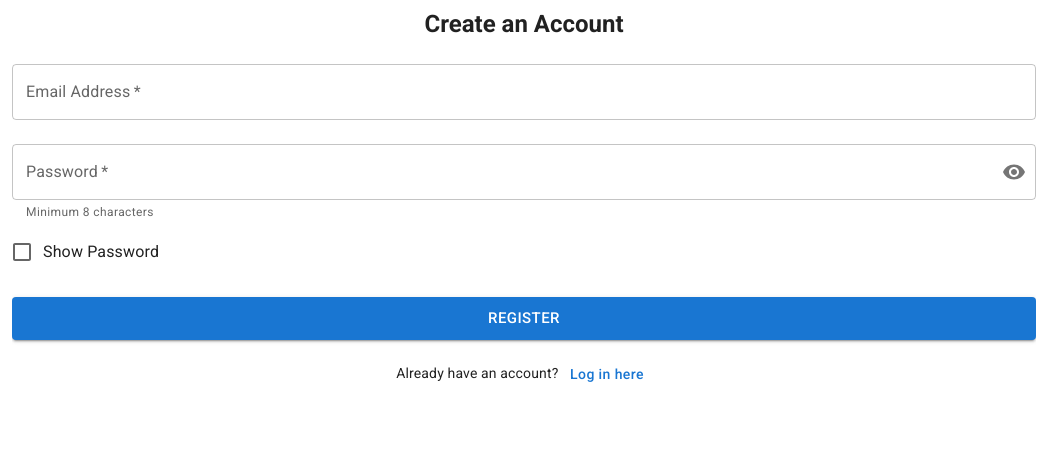
Test: authentication forms › resets registration fields after a successful registration
This screenshot has width=1048, height=463.
In the field labelled "Email Address *": (524, 92) top-left (12, 64), bottom-right (1036, 120), type "new@example.com"
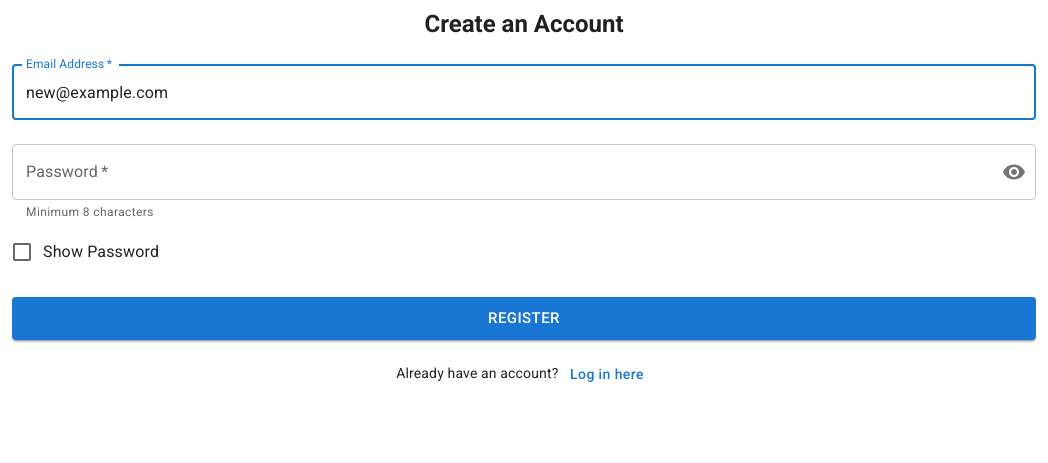
In the password field with id "register-password": (499, 172) top-left (12, 144), bottom-right (986, 200), type "password123"
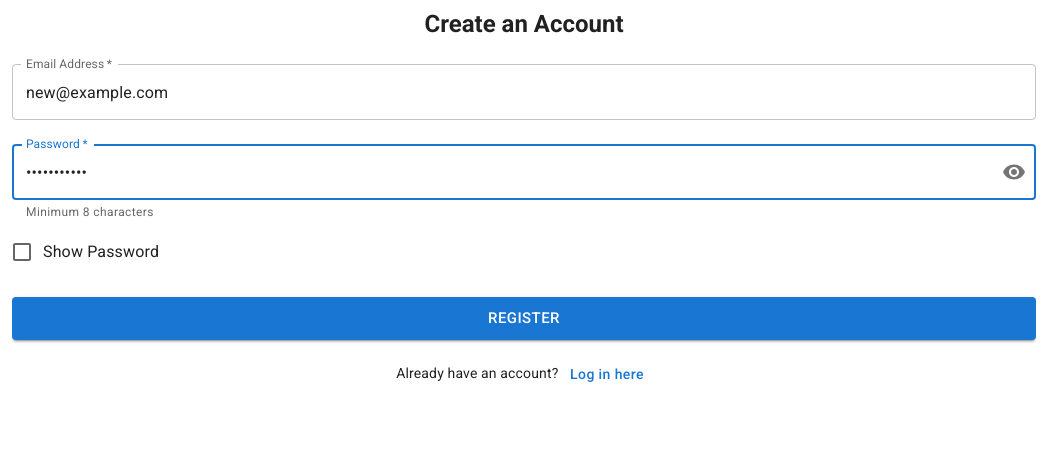
Click the button "Register": (524, 318) top-left (12, 297), bottom-right (1036, 340)
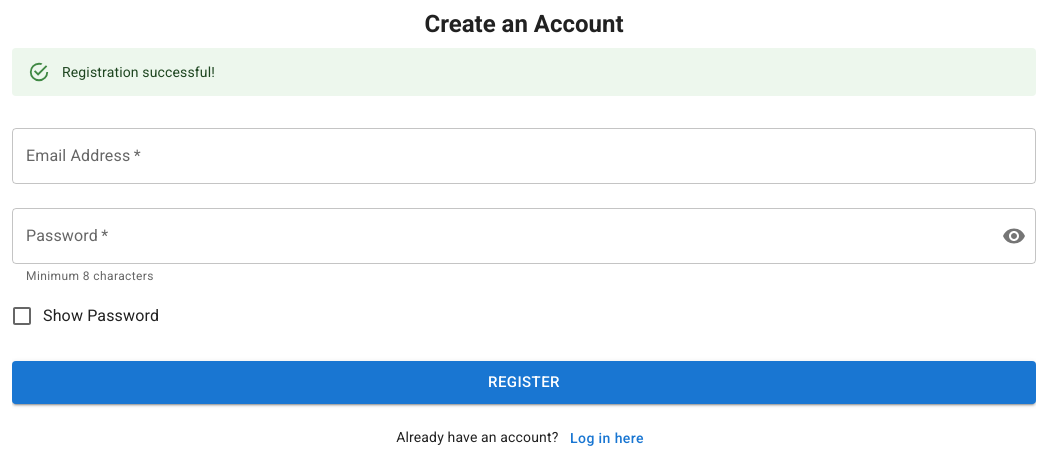
Now the text "Registration successful!" is shown, box top-left (62, 64), bottom-right (215, 80)
Now the field labelled "Email Address *" is empty, box top-left (12, 128), bottom-right (1036, 184)
Now the password field with id "register-password" is empty, box top-left (12, 208), bottom-right (986, 264)
